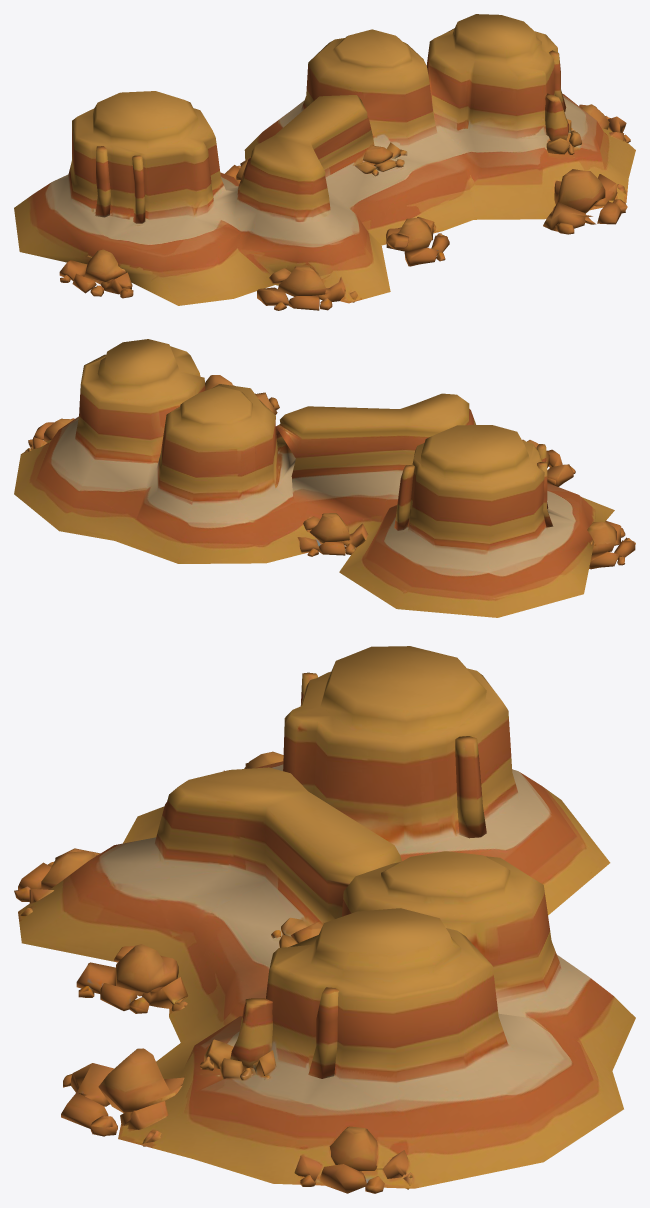
File: original_glb.glb
3 views of the same model, one above another, from view 1: azimuth 30°, elevation 25°; view 2: azimuth 150°, elevation 25°; view 3: azimuth 270°, elevation 25° (orthographic). The views are drawn at different scales.
Parts seen in each view (by area): view 1: Desert Mesa Ridge; view 2: Desert Mesa Ridge; view 3: Desert Mesa Ridge.
Boxes of the visible parts, x1,y1,x2,y2 form: Desert Mesa Ridge: (14, 14, 635, 310); Desert Mesa Ridge: (14, 339, 635, 617); Desert Mesa Ridge: (14, 646, 635, 1193).
Bounding box in the file's own units: 0.998 × 0.2012 × 0.6191.
Materials: 1 (1 with a texture image).
